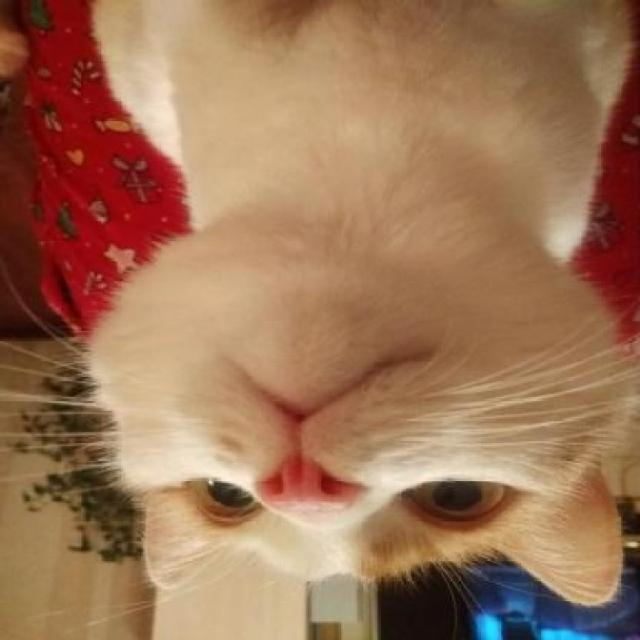cat: (85, 0, 628, 608)
